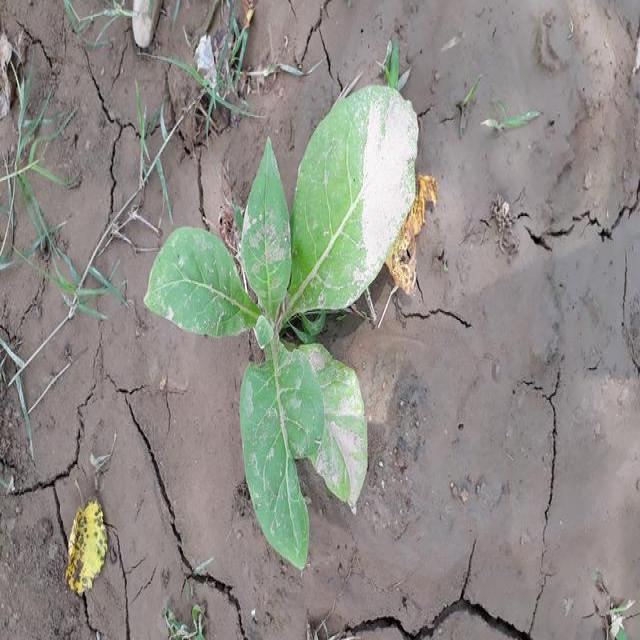crop: (146, 92, 428, 570)
